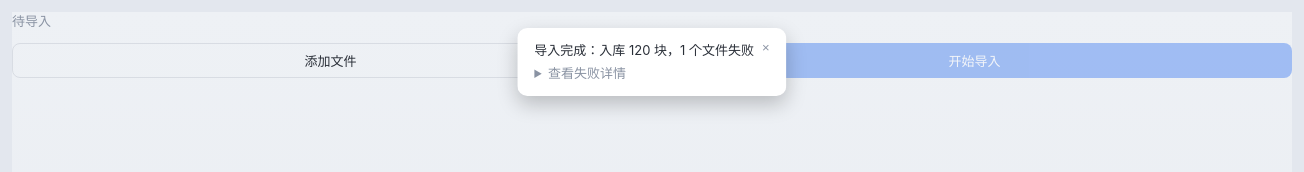
ImportPanel › shows result summary with expandable failure details
Check: the text "导入完成：入库 120 块，1 个文件失败" is shown, box left=534, top=42, right=754, bottom=58
Click the heading "查看失败详情": click(587, 73) left=548, top=65, right=626, bottom=81
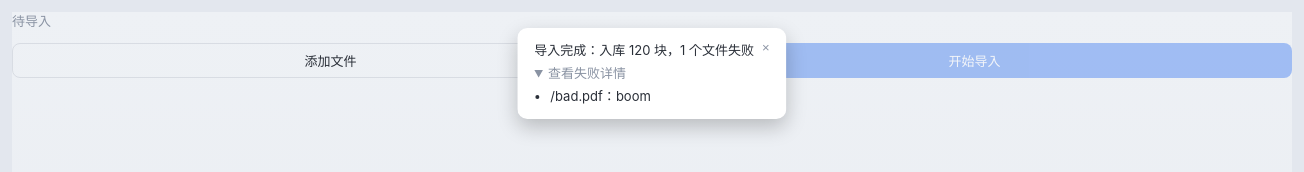
Check: the list item "/bad.pdf：boom" is shown, box left=550, top=88, right=651, bottom=104
